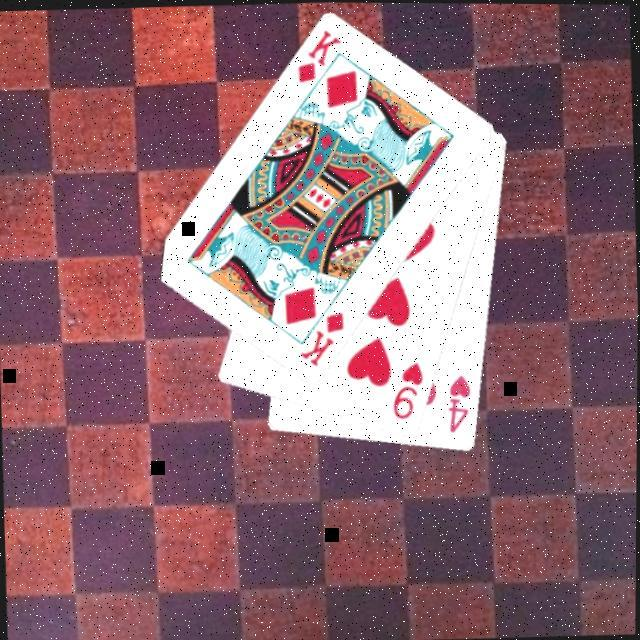4H: (445, 369, 477, 434)
9H: (390, 357, 430, 422)
KD: (295, 306, 349, 368), (292, 23, 346, 85)
